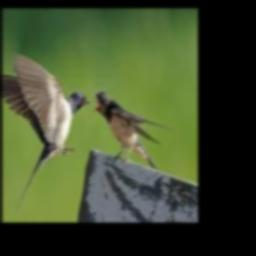Swallow: (2, 52, 89, 212), (92, 90, 170, 170)
